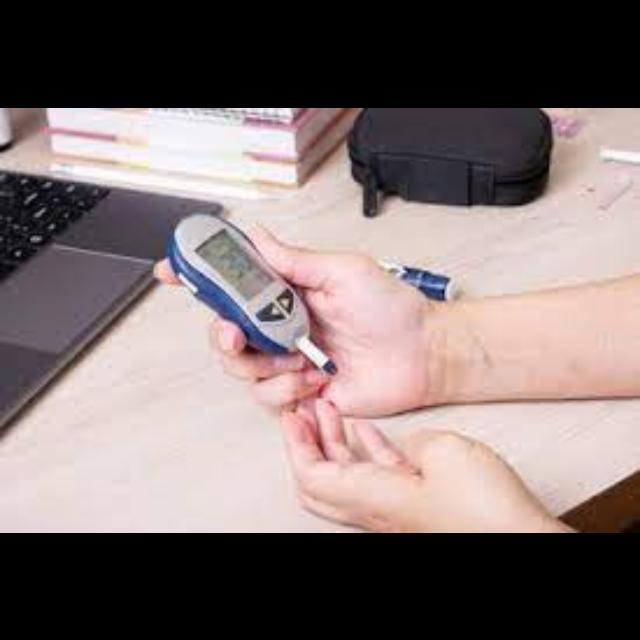Glucose-Meter: (167, 214, 335, 374)
